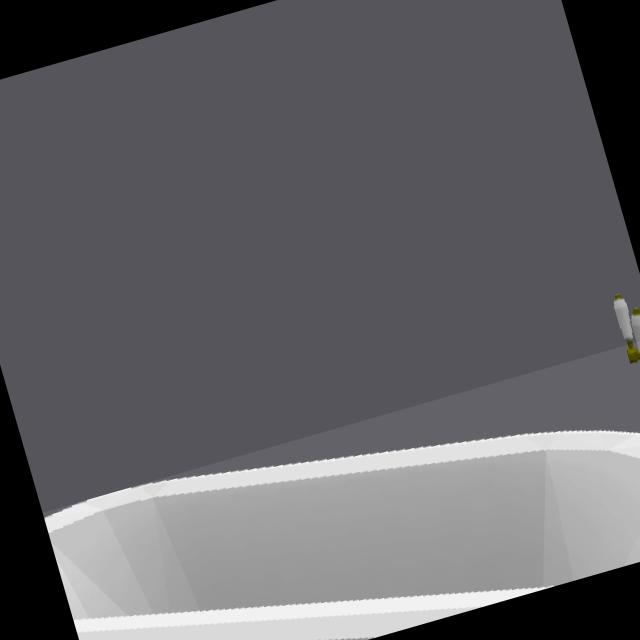bathtube: (44, 429, 640, 640)
